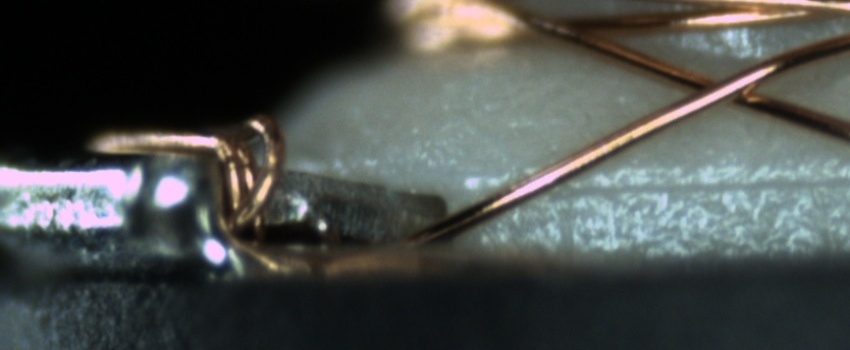CL: (665, 62, 785, 114)
DL: (466, 154, 849, 221)
TE: (86, 102, 298, 257)
